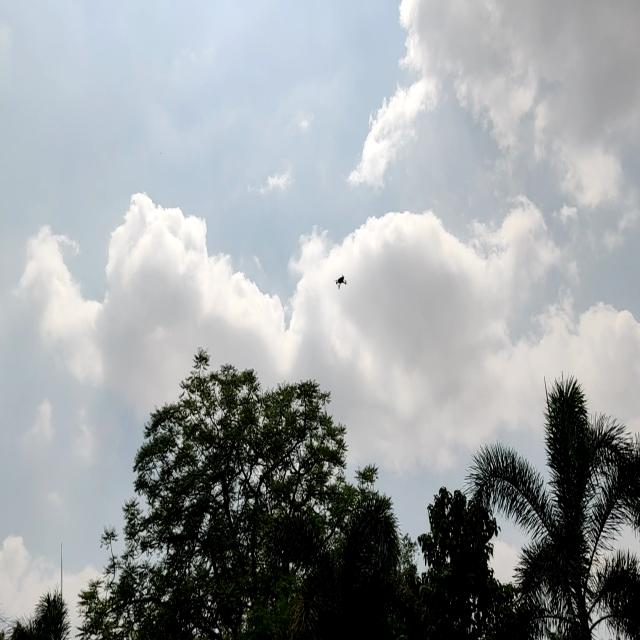drone: (329, 268, 351, 291)
